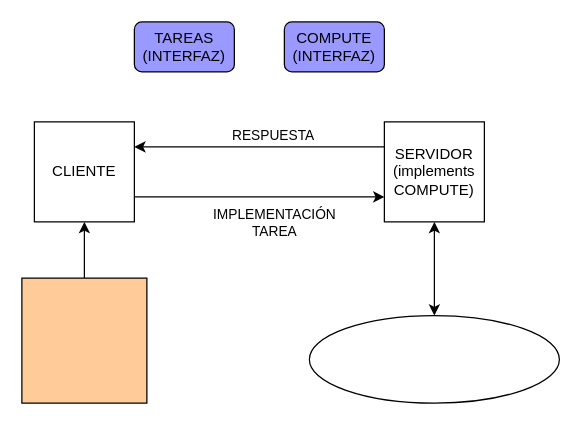
The diagram is 581 pixels wide and 425 high, and some of its shapes have lost their labels. Here are the shapes that lost their labels. From the top down, the box of each, then its label:
(21, 277, 147, 403): IMPLENTACIÓN TAREA (implements TAREAS, SERIALIZABLE)
(308, 314, 559, 403): REALIZA LA TAREA (usa la funcion ejecutar(), para obtener la respuesta)
